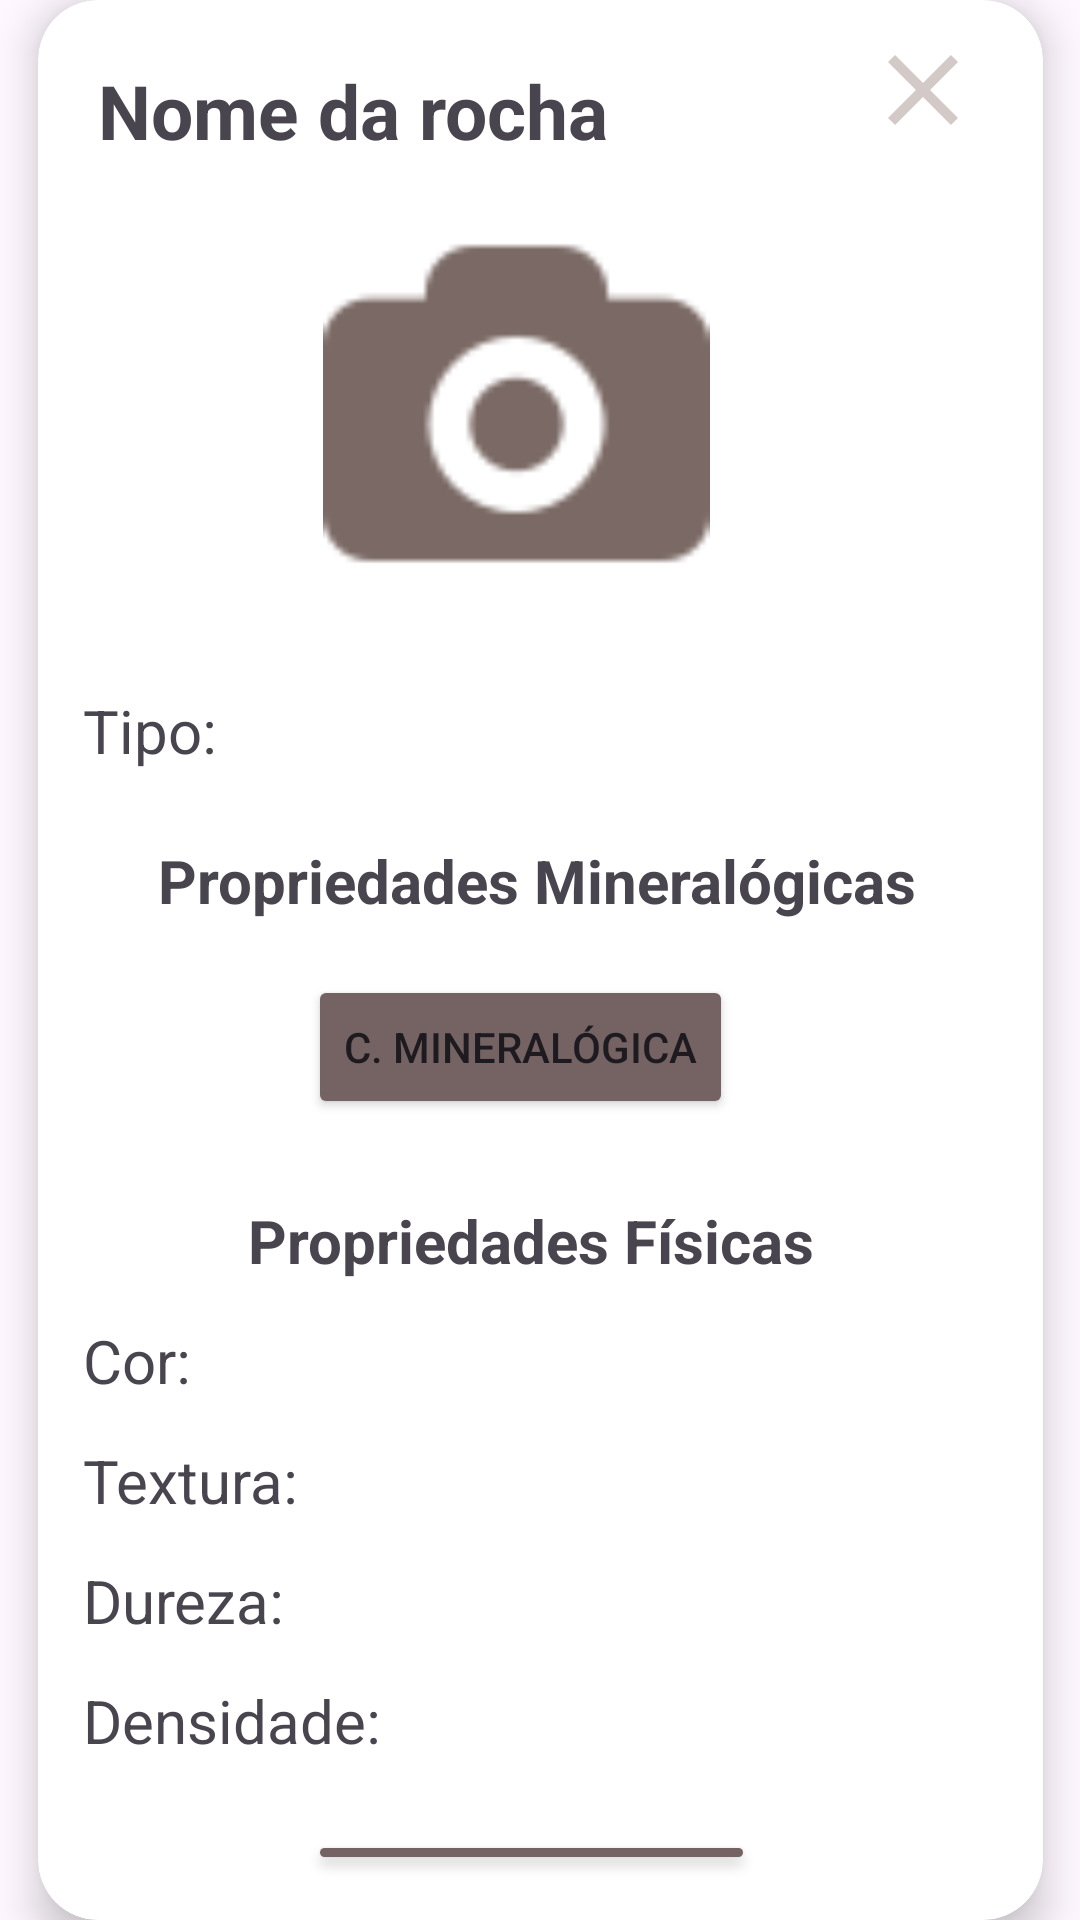

Point at icon controls on the screen. Image size 1080x1920, points as [x,y].
fechar: [923,90]
